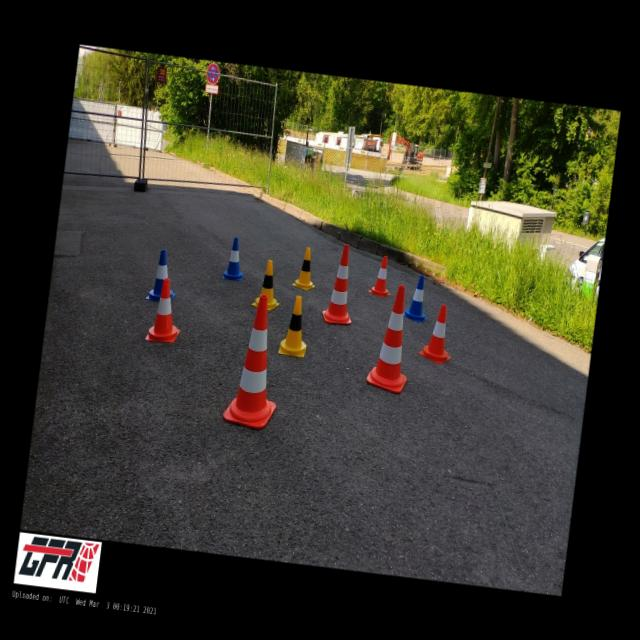blue_cone: (146, 246, 180, 302), (402, 273, 432, 323), (222, 236, 248, 281)
large_orange_cone: (222, 292, 288, 429), (364, 282, 418, 394), (320, 242, 360, 324)
orange_cone: (145, 276, 185, 344), (418, 302, 457, 365), (367, 254, 395, 298)
yellow_cone: (278, 294, 312, 357), (251, 258, 284, 311), (291, 246, 319, 290)
